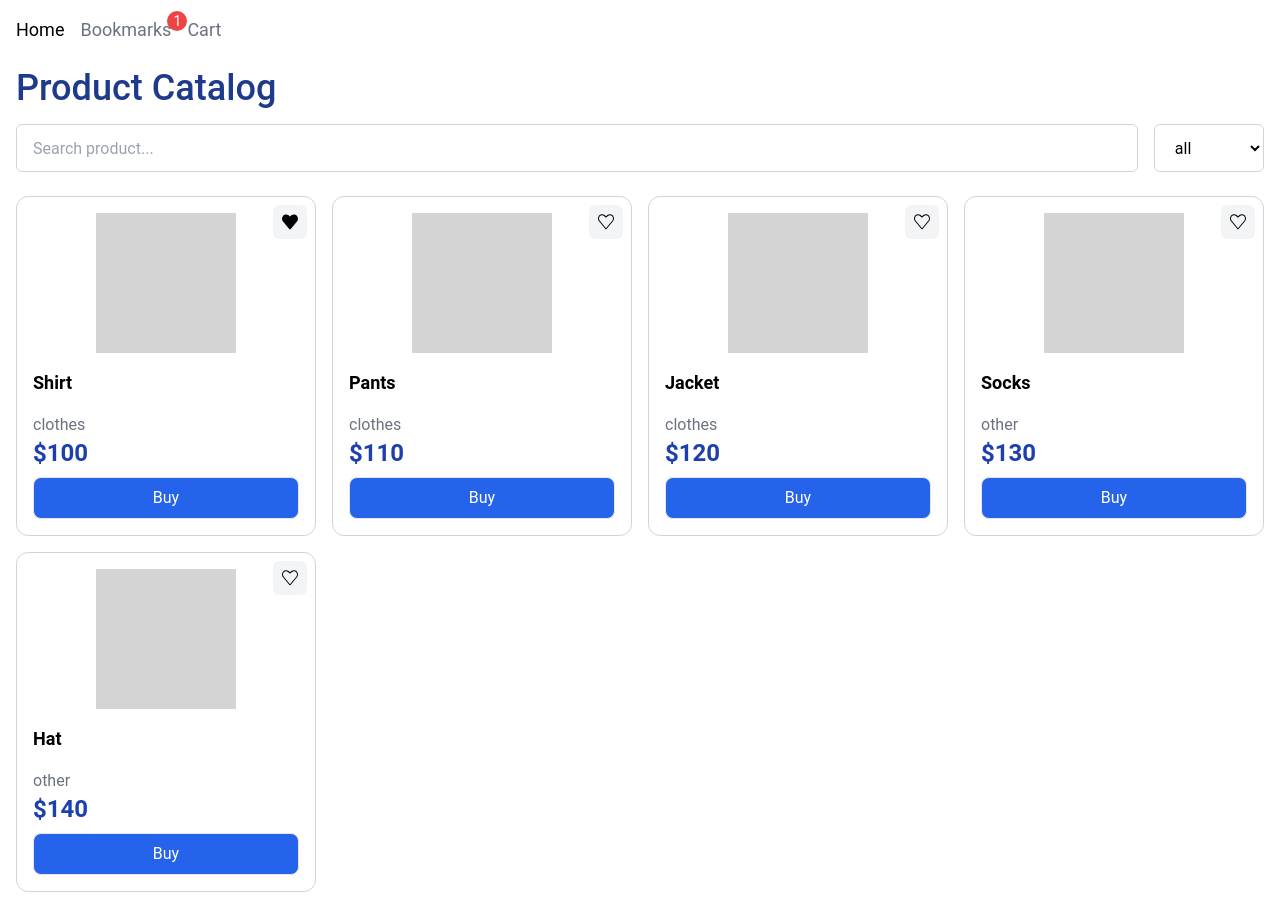
Test: App › Going to detail page
This screenshot has width=1280, height=900.
Click the link with aria-label "Product link". click: (52, 382)
box: [33,372,72,393]
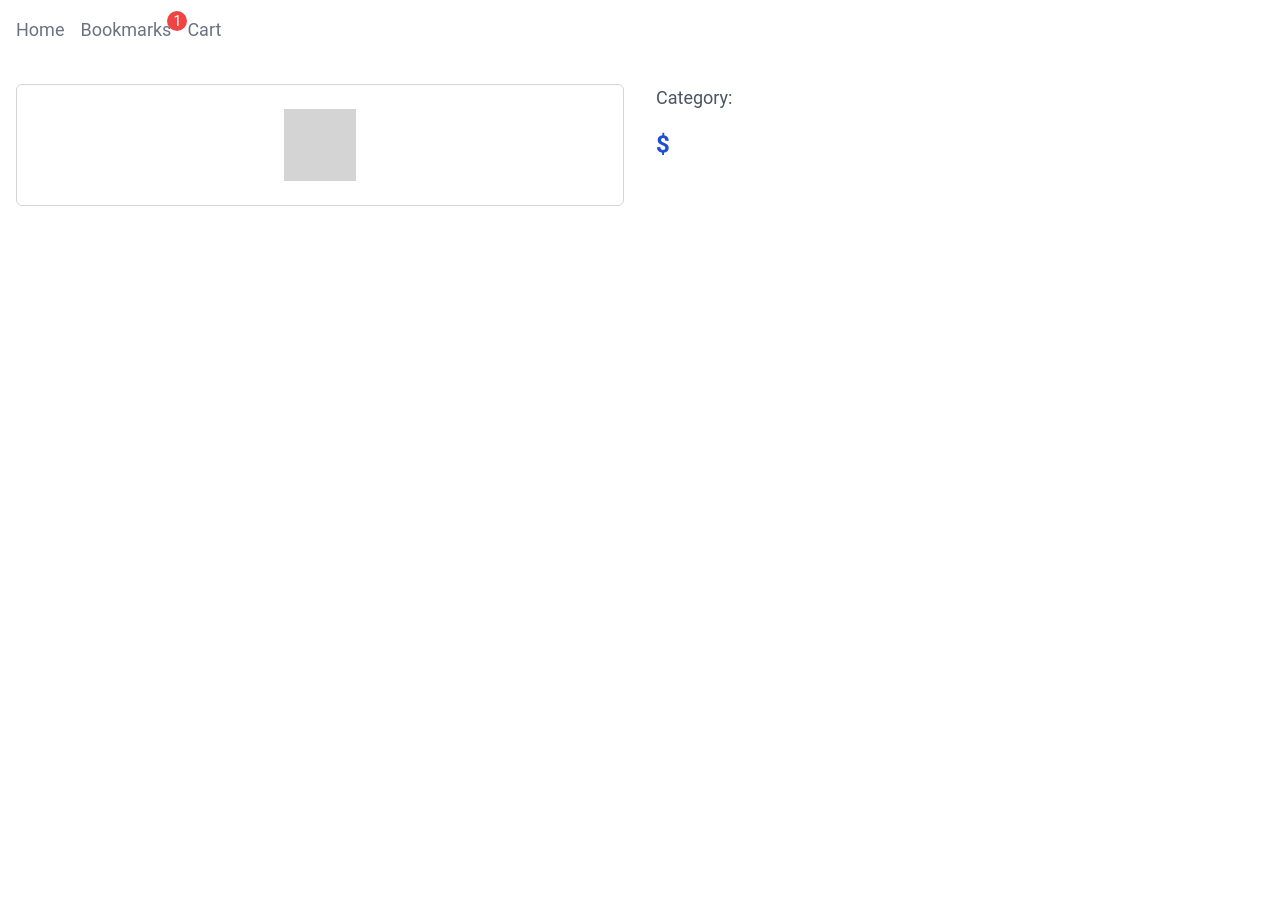
Expected: the text "Category:" is shown, [656,87,732,108]
